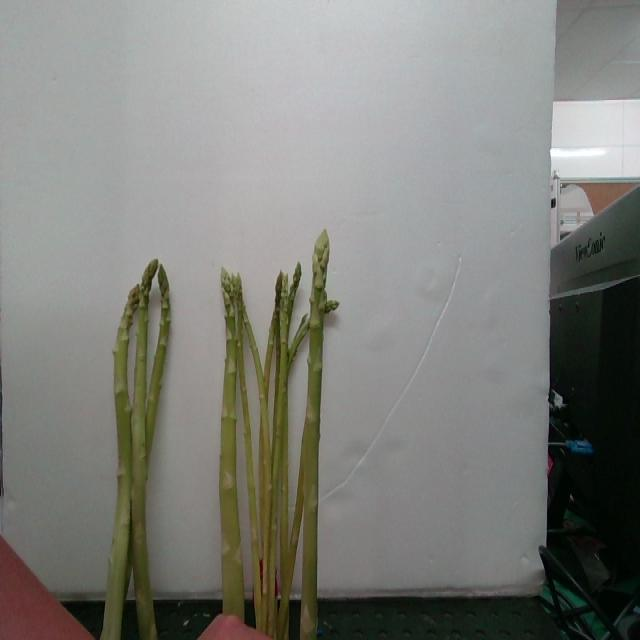aspargus: (299, 231, 331, 640), (102, 286, 137, 640)
